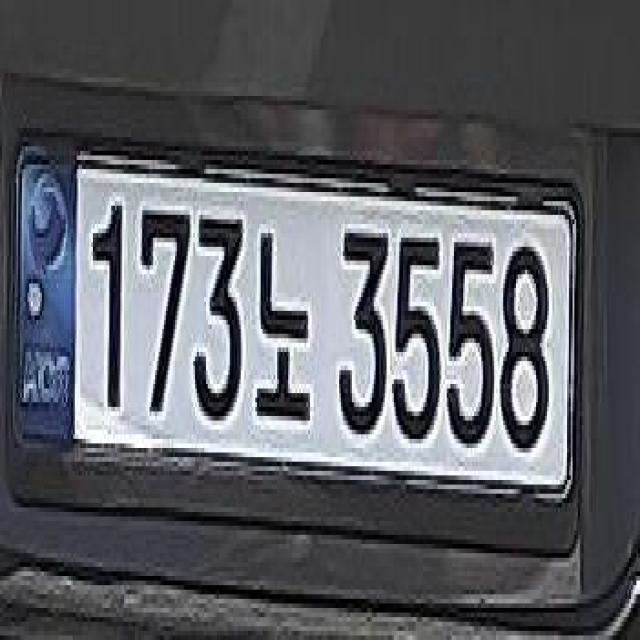illegal_plate: (0, 126, 595, 538)
